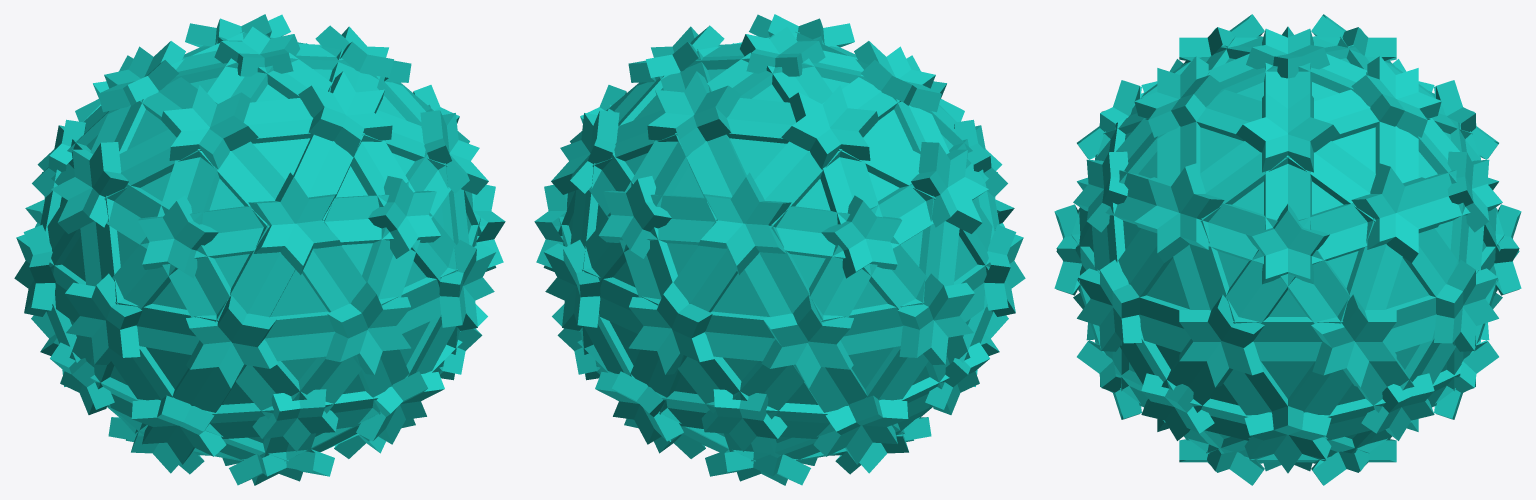
Rendered from Snake.obj.
3 views of the same model, side by side, from view 1: azimuth 30°, elevation 25°; view 2: azimuth 150°, elevation 25°; view 3: azimuth 270°, elevation 25° (orthographic).
Visible parts, largest first — view 1: Icosphere; view 2: Icosphere; view 3: Icosphere.
Boxes of the visible parts, left/top/right/bottom form: Icosphere: left=14, top=14, right=505, bottom=485; Icosphere: left=534, top=14, right=1025, bottom=485; Icosphere: left=1054, top=14, right=1521, bottom=485.
Size of the model in its own units: 6.3 by 5.87 by 5.98.
